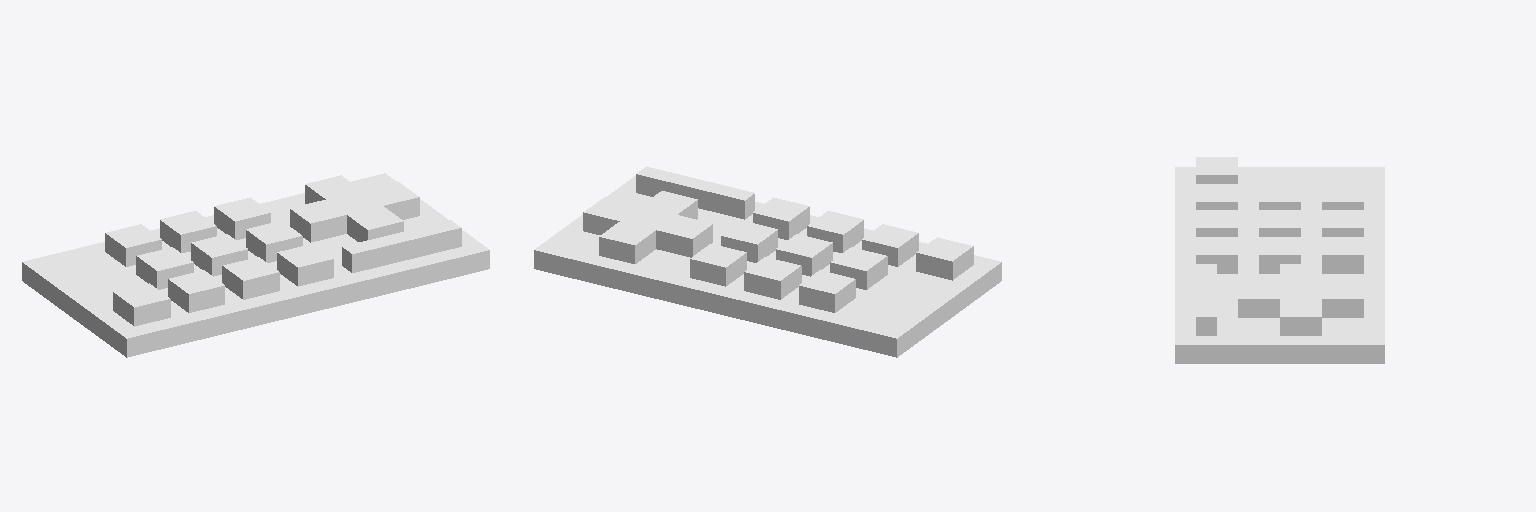
Rendered from remote.obj.
3 renders of one model, left to right at view 1: azimuth 30°, elevation 25°; view 2: azimuth 150°, elevation 25°; view 3: azimuth 270°, elevation 25°, orthographic.
Visible parts, largest first — view 1: object 1; view 2: object 1; view 3: object 1.
Part boxes in pixels (x1,y1,x2,y2): object 1: (22, 173, 489, 357); object 1: (534, 166, 1001, 357); object 1: (1175, 157, 1384, 363).
Bounding box in the file's own units: 2 × 0.2 × 1.